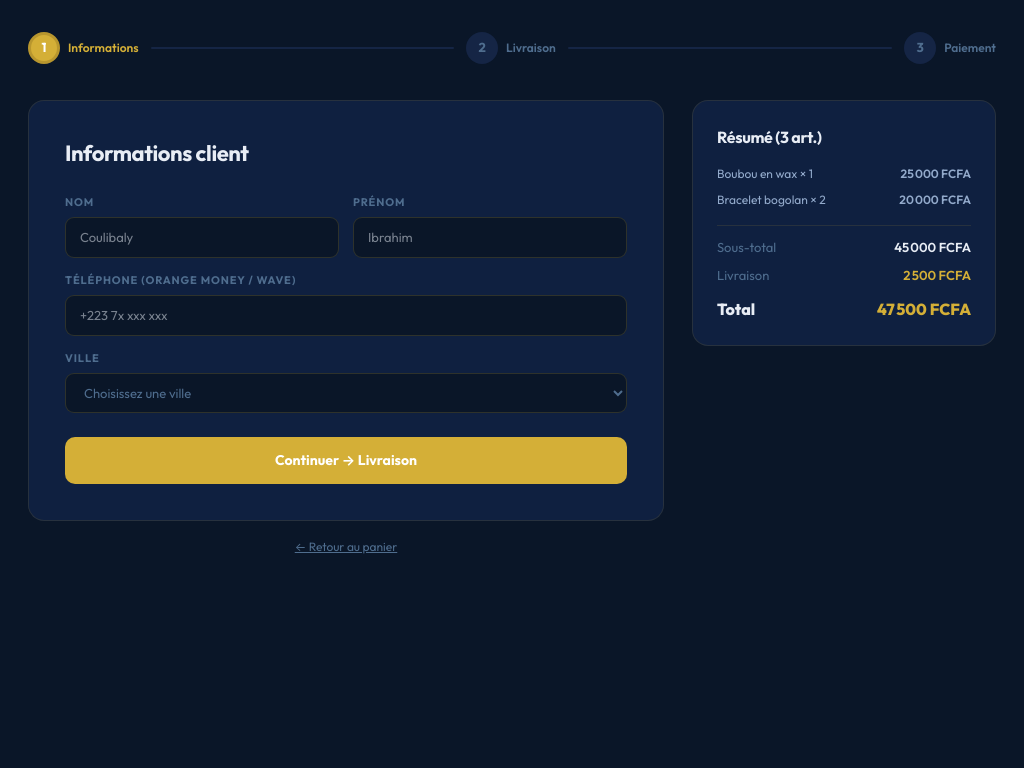
Test: CheckoutPage — step 0 (Informations) › affiche des erreurs de validation si on avance sans remplir
Click the button "Continuer → Livraison". click: click(346, 460)
box: [65,436,627,484]
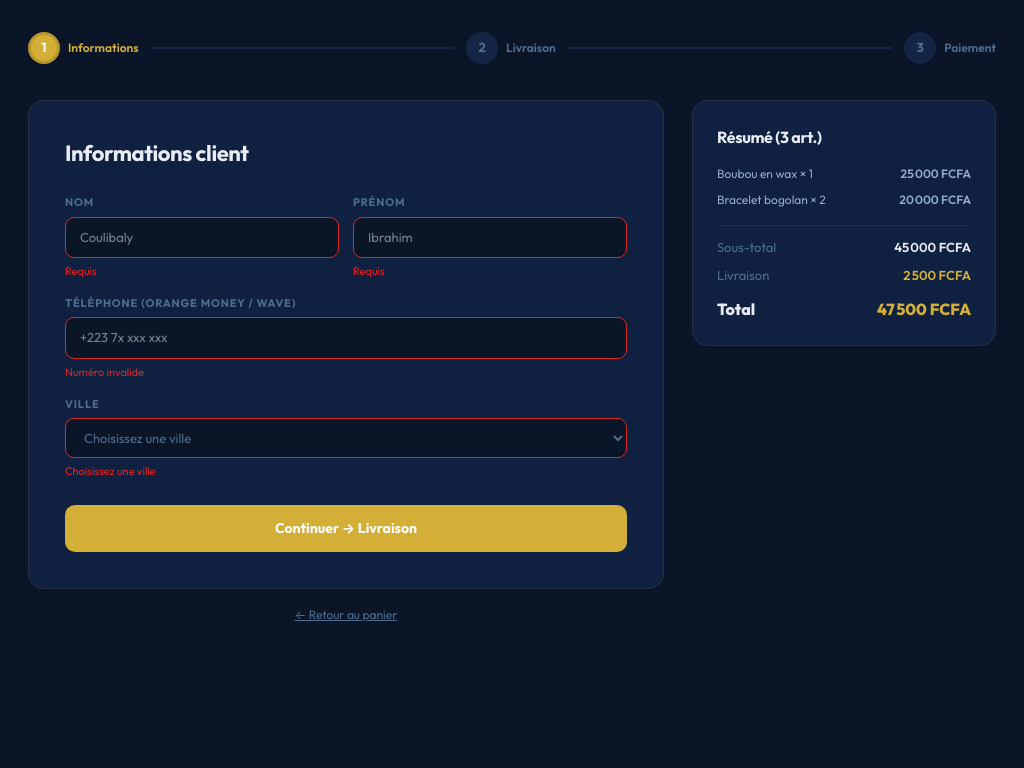
Expected: the 1st text "Requis" is shown, [65,264,97,278]
